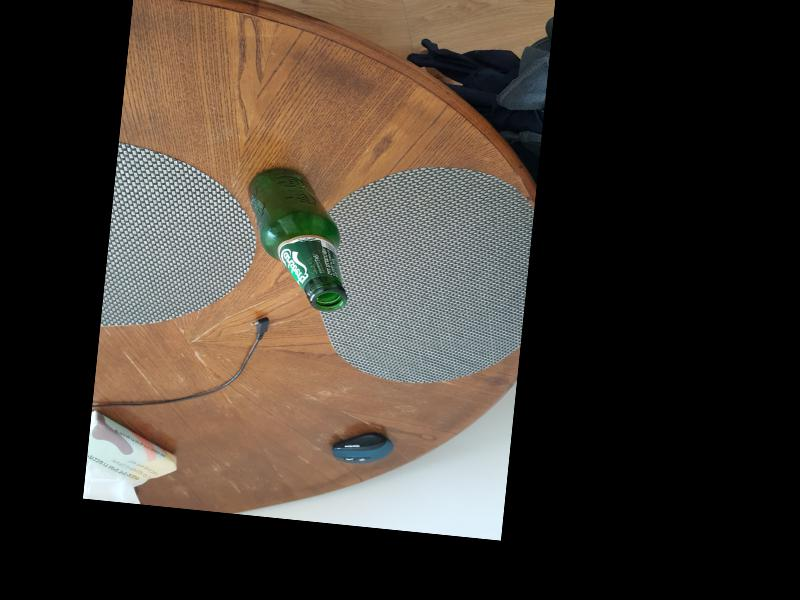Beer: (231, 161, 361, 313)
